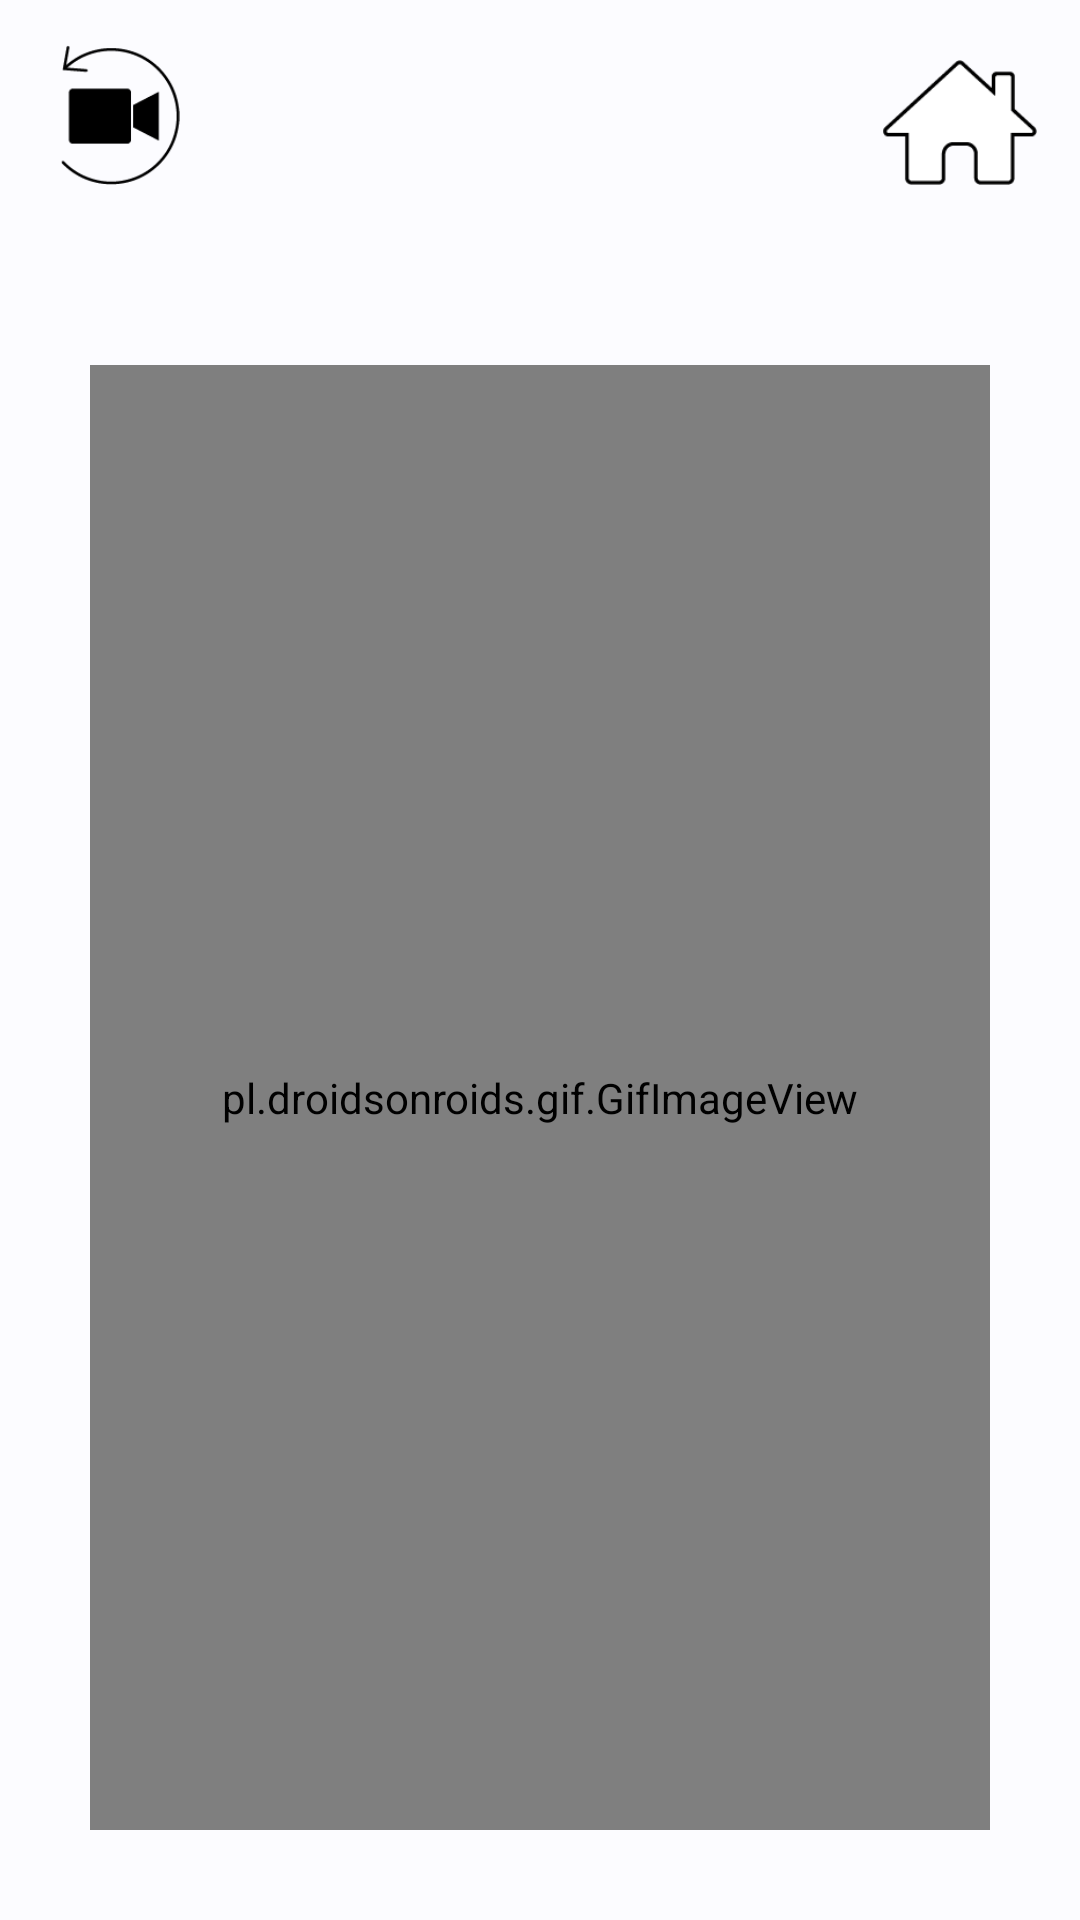

Screen size 1080×1920. Icon name, then its center in pixels as (x=x, y=y):
home: (x=960, y=122)
reshoot: (x=120, y=115)
